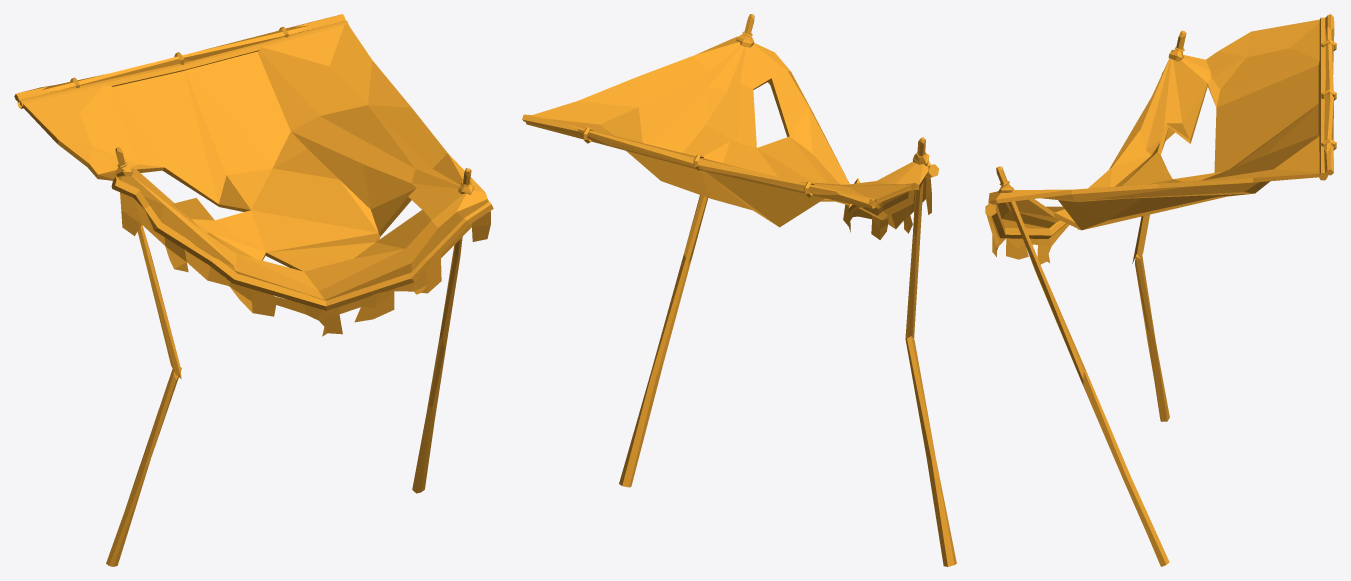
Rendered from SM_Tent_Porch_Narrow_Plain_Destroyed_Fantasy.fbx.
The picture shows the model from 3 angles, left to right: view 1: azimuth 30°, elevation 25°; view 2: azimuth 150°, elevation 25°; view 3: azimuth 270°, elevation 25°; orthographic projection. The views are drawn at different scales.
Parts seen in each view (by area): view 1: tent-porch-narrow-plain-destroyed-fantasy; view 2: tent-porch-narrow-plain-destroyed-fantasy; view 3: tent-porch-narrow-plain-destroyed-fantasy.
Part boxes in pixels (x1,y1,x2,y2): tent-porch-narrow-plain-destroyed-fantasy: (14,14,493,566); tent-porch-narrow-plain-destroyed-fantasy: (522,14,956,566); tent-porch-narrow-plain-destroyed-fantasy: (985,14,1336,566).
Bounding box in the file's own units: 2.36 × 2.86 × 2.25.
